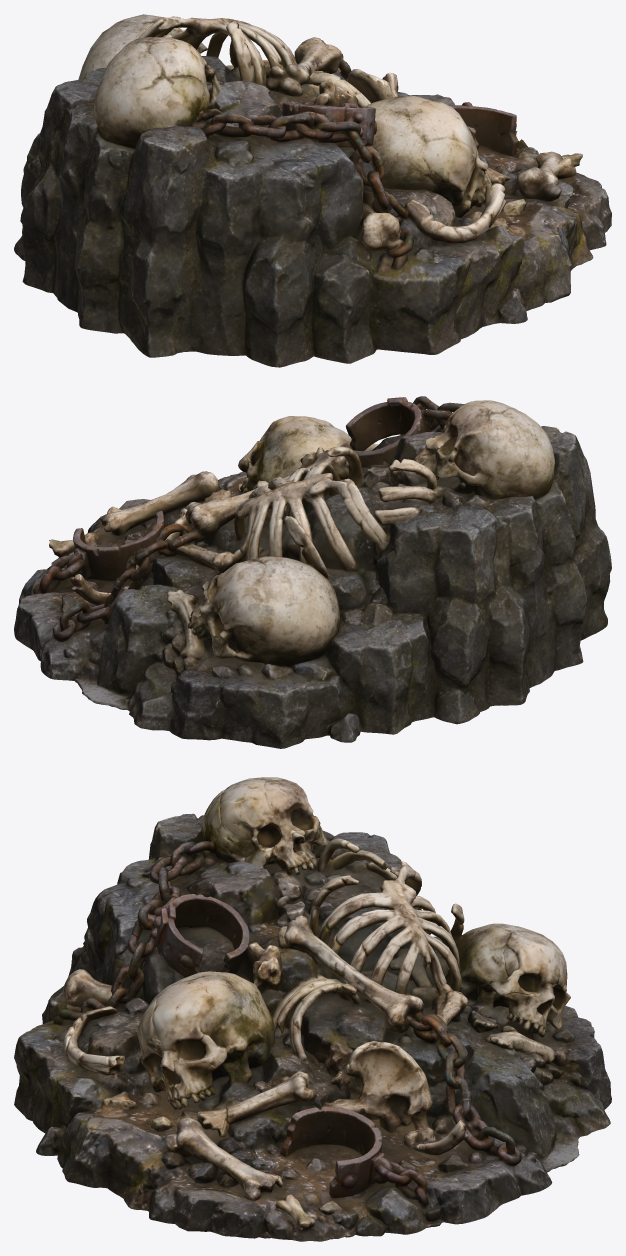
3 renders of one model, top to bottom at view 1: azimuth 30°, elevation 25°; view 2: azimuth 150°, elevation 25°; view 3: azimuth 270°, elevation 25°, orthographic. The views are drawn at different scales.
Parts seen in each view (by area): view 1: tripo_node_228879f2-6fdb-465f-a29c-7f98f83228bf; view 2: tripo_node_228879f2-6fdb-465f-a29c-7f98f83228bf; view 3: tripo_node_228879f2-6fdb-465f-a29c-7f98f83228bf.
Boxes of the visible parts, <box> form: tripo_node_228879f2-6fdb-465f-a29c-7f98f83228bf: <box>14,14,611,367</box>; tripo_node_228879f2-6fdb-465f-a29c-7f98f83228bf: <box>14,396,611,748</box>; tripo_node_228879f2-6fdb-465f-a29c-7f98f83228bf: <box>14,777,611,1241</box>.
Bounding box in the file's own units: 0.9789 × 0.4503 × 0.963.
1 material, 1 textured.
